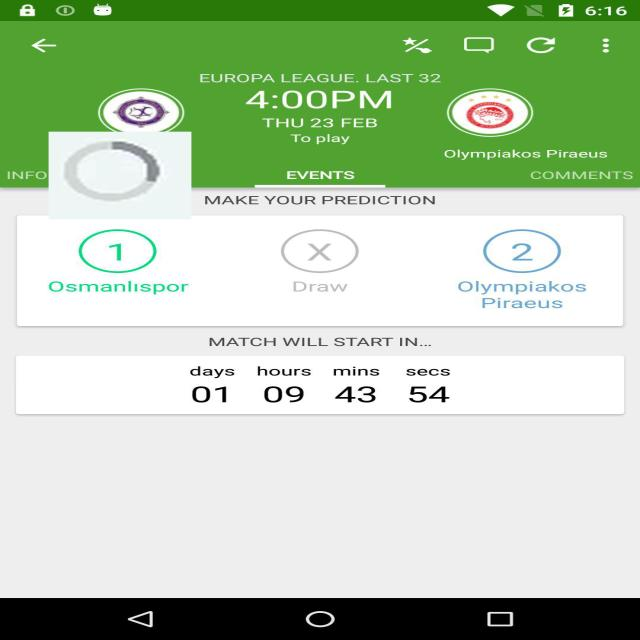misdirection: (48, 132, 192, 219)
